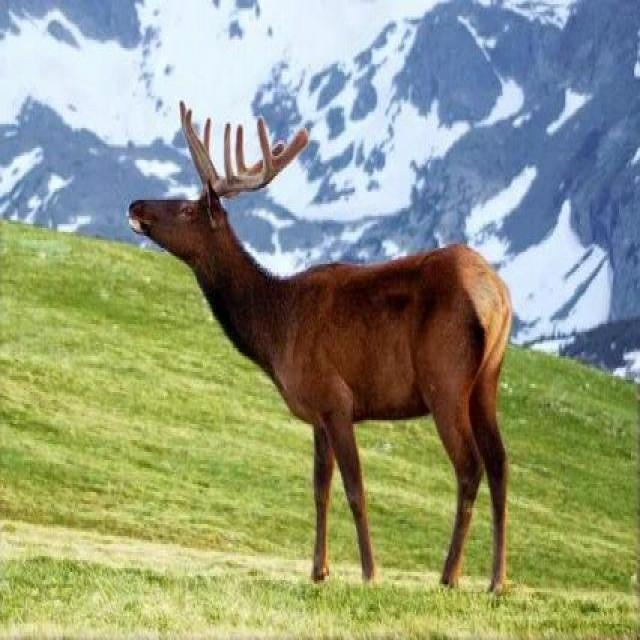deer: (153, 157, 594, 534)
